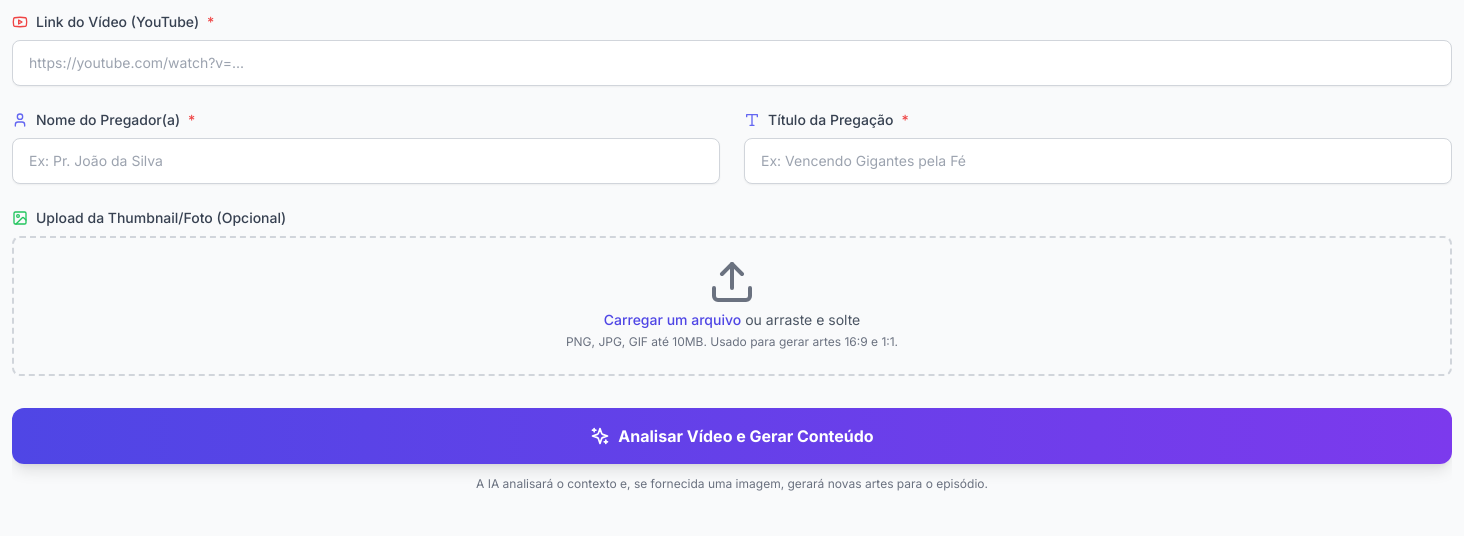
it: SermonForm › inline form validation › shows error only for the missing field
Note: Fill two fields, leave title empty
Type "https://www.youtube.com/watch?v=dQw4w9WgXcQ" into the field labelled "Link do Vídeo (YouTube) *" at (732, 63), box top-left (12, 40), bottom-right (1452, 86)
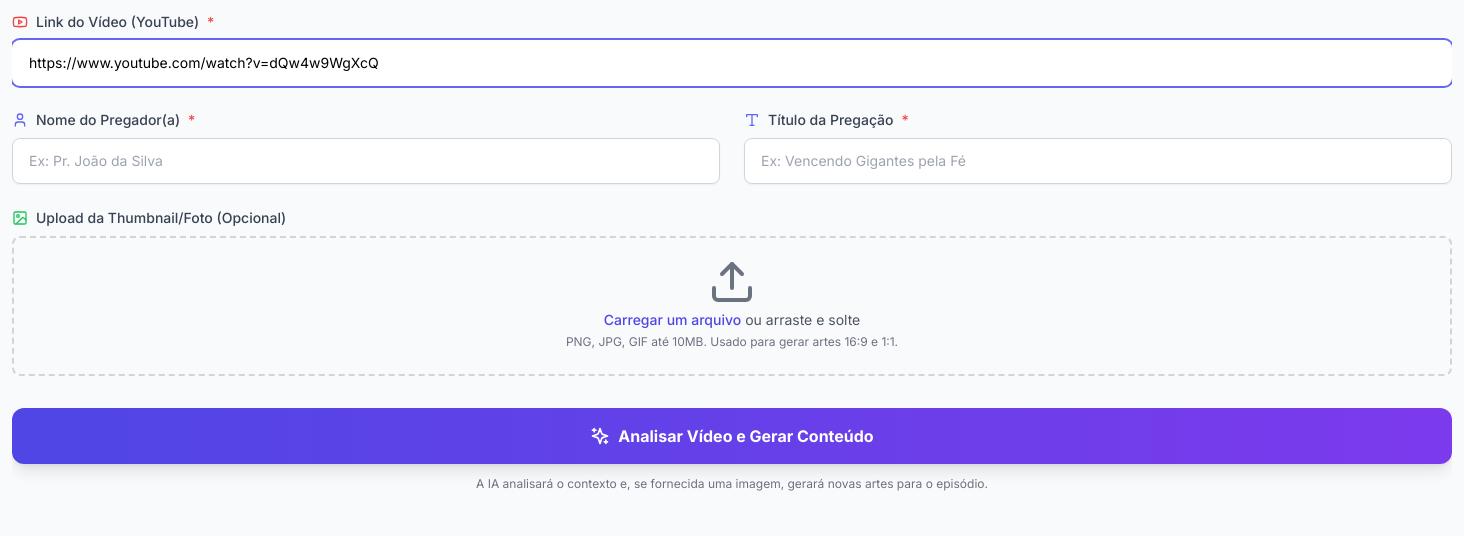
Type "Pr. Joao da Silva" into the field labelled "Nome do Pregador(a) *" at (366, 161), box top-left (12, 138), bottom-right (720, 184)
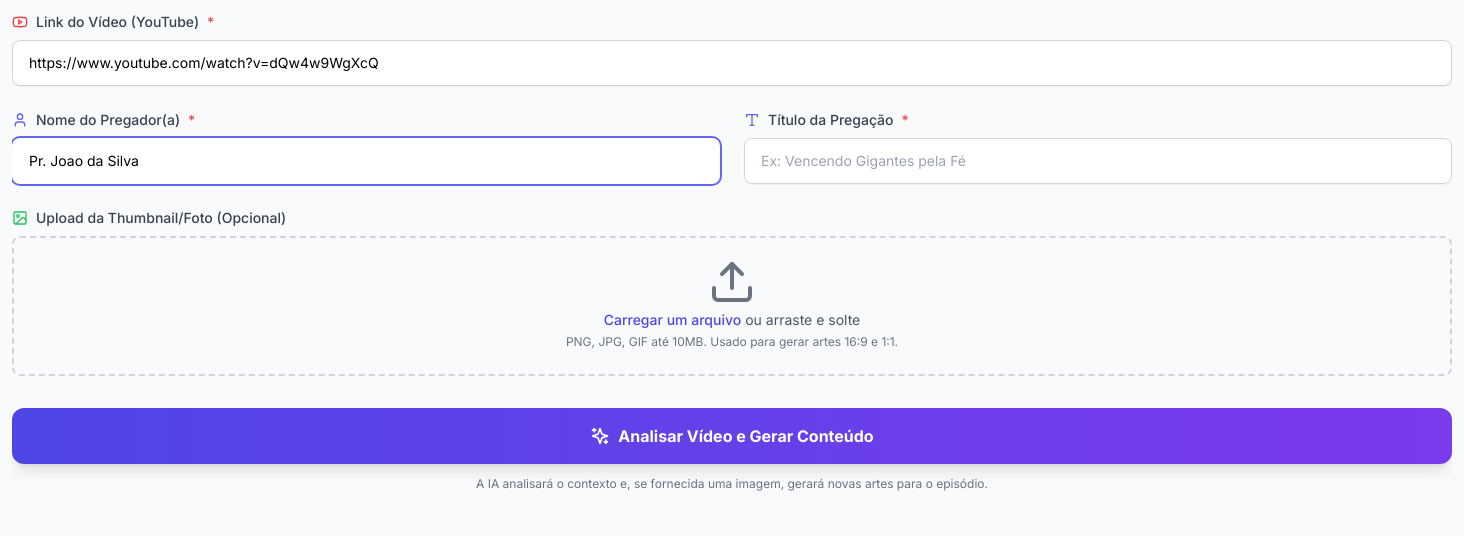
Click the button "Analisar Vídeo e Gerar Conteúdo" at (732, 436), box top-left (12, 408), bottom-right (1452, 464)
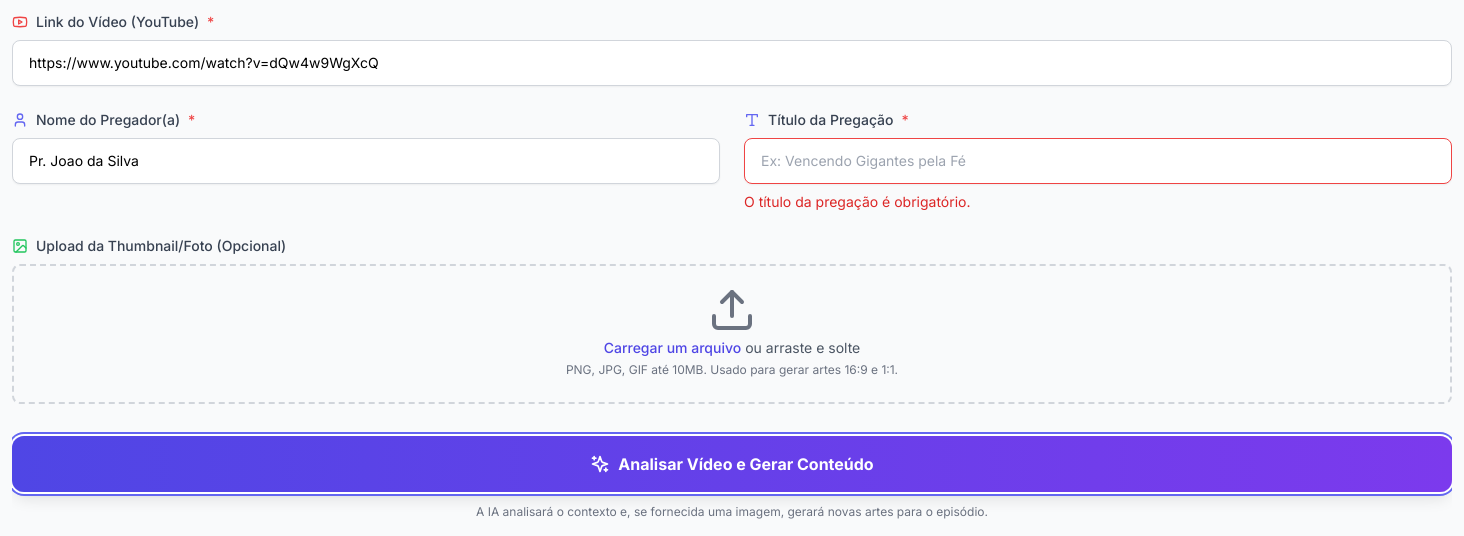
Now the text "O título da pregação é obrigatório." is shown, box top-left (744, 193), bottom-right (970, 210)
